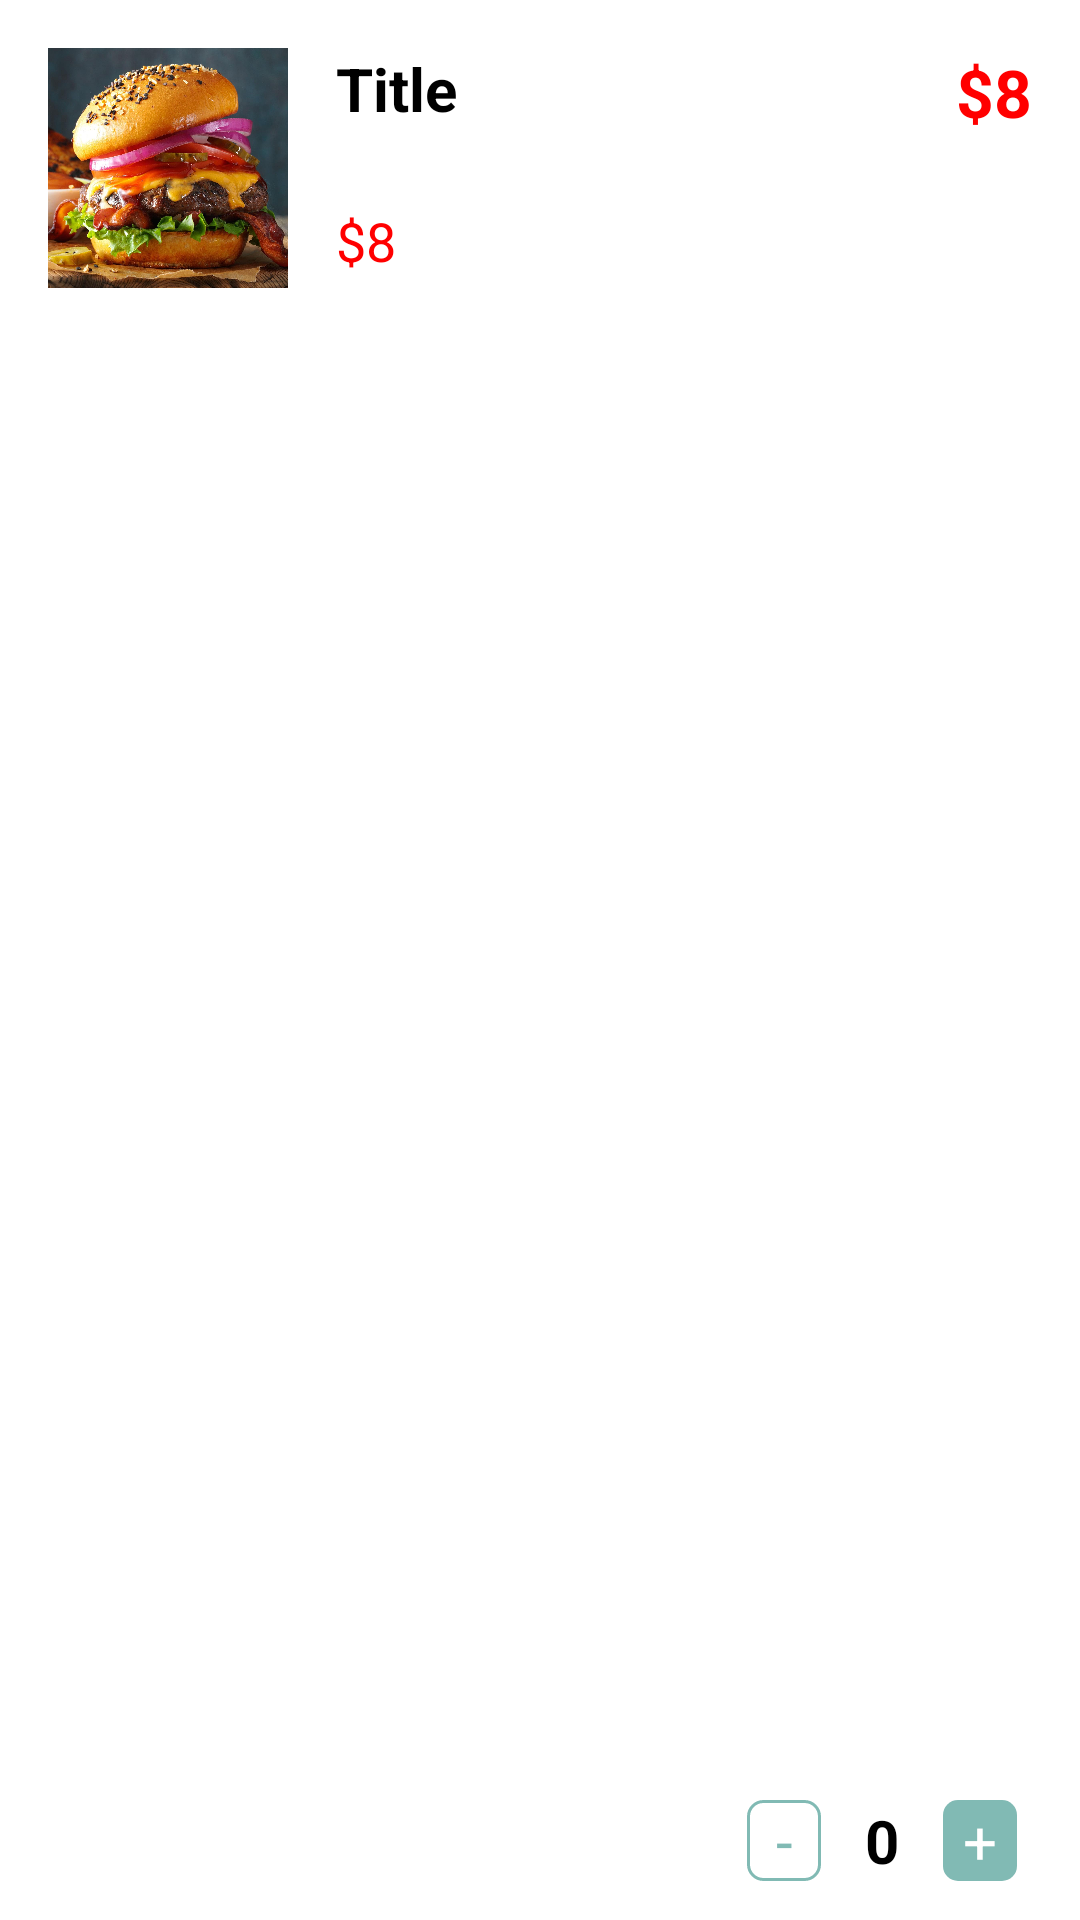

Where to tap for icons on this 1080 × 1920 app screen, as (x=x, y=y):
burger: (x=168, y=168)
